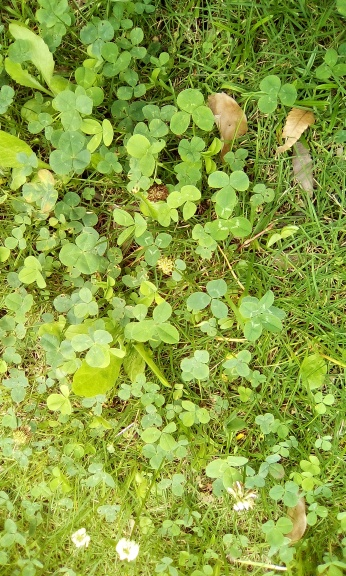4leaf: (238, 290, 283, 341)
